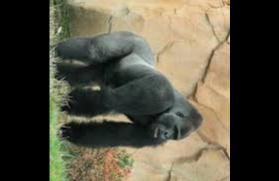gorille_Autres: (54, 28, 202, 151)
